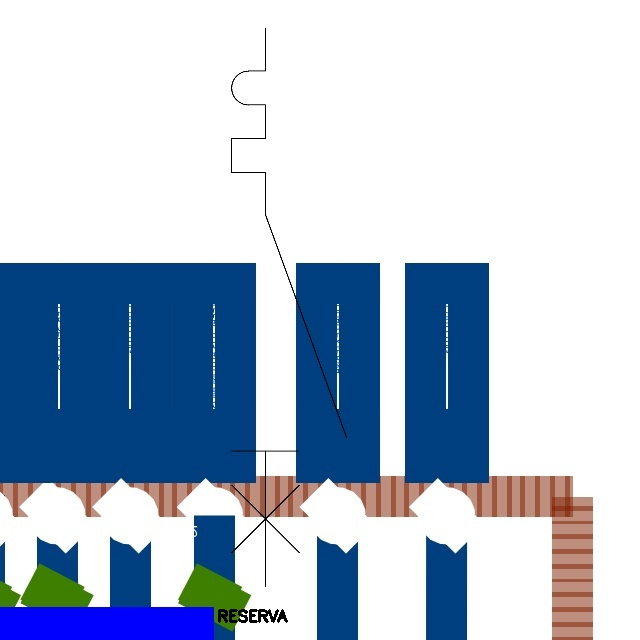interruptor_termomagnetico: (217, 14, 360, 601)
